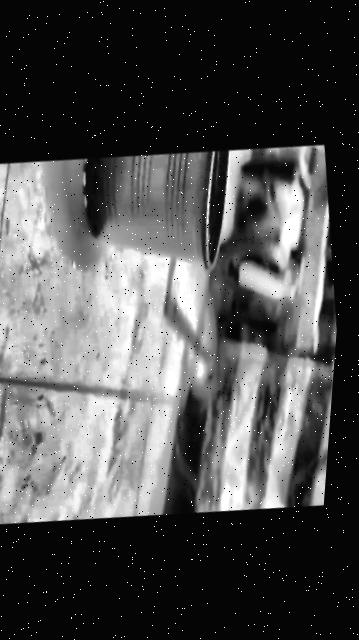pot: (72, 137, 246, 290)
